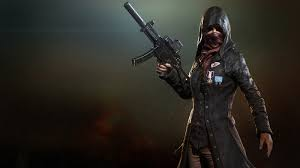Gun: (127, 9, 175, 59)
